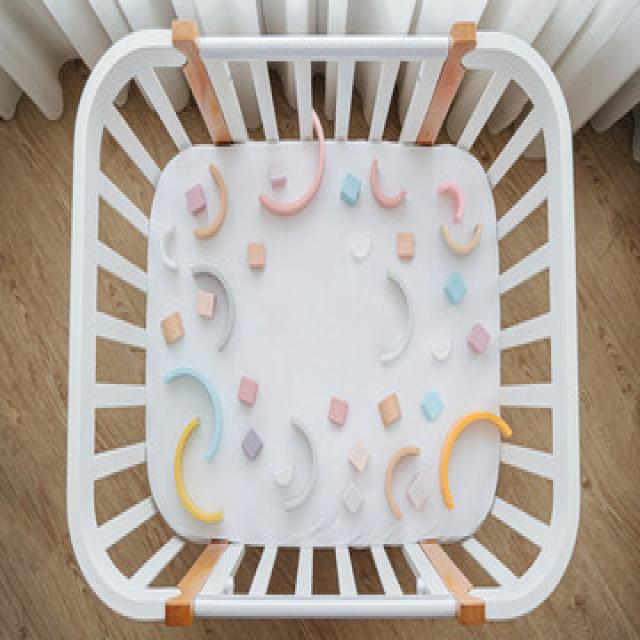crib: (64, 16, 581, 627)
